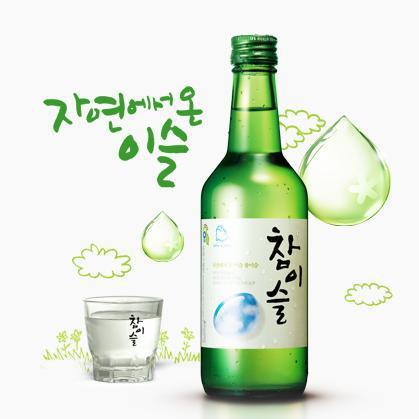soju: (199, 30, 316, 400)
